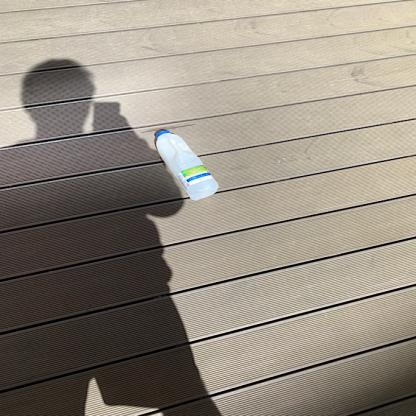trash: (152, 129, 223, 207)
